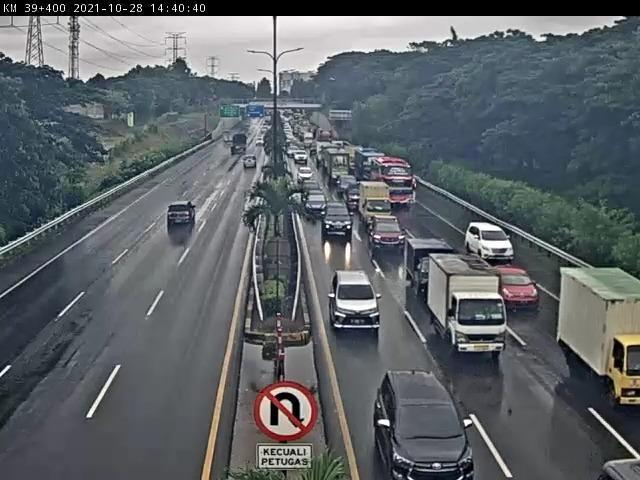bus: (376, 155, 418, 201)
car: (374, 372, 478, 480), (327, 271, 383, 336), (463, 221, 516, 263), (494, 263, 541, 309), (372, 215, 407, 249), (165, 200, 198, 232), (321, 206, 351, 240)
truck: (556, 263, 640, 410), (430, 250, 509, 365), (405, 237, 454, 291), (359, 181, 396, 230)
